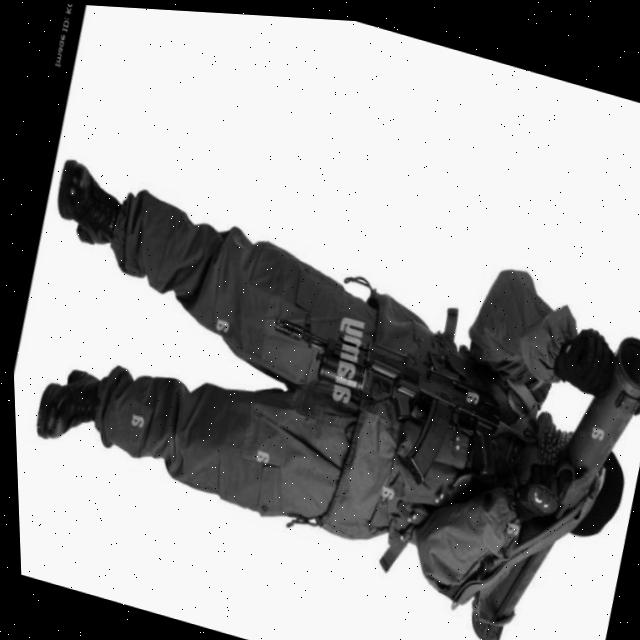rocket: (459, 295, 640, 640)
